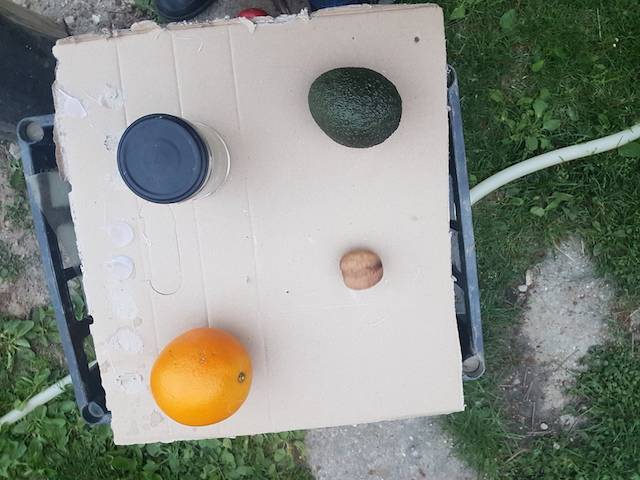avocado: (306, 66, 403, 150)
nut: (338, 249, 387, 294)
orange: (152, 326, 252, 429)
recipient: (119, 114, 208, 207)
